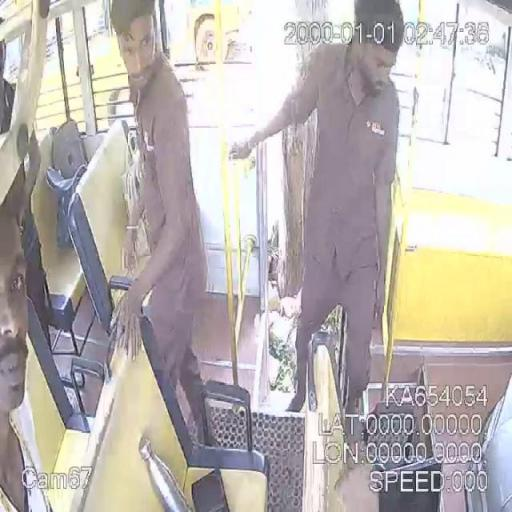persona: (228, 0, 405, 418), (107, 1, 210, 446), (0, 202, 43, 512)
